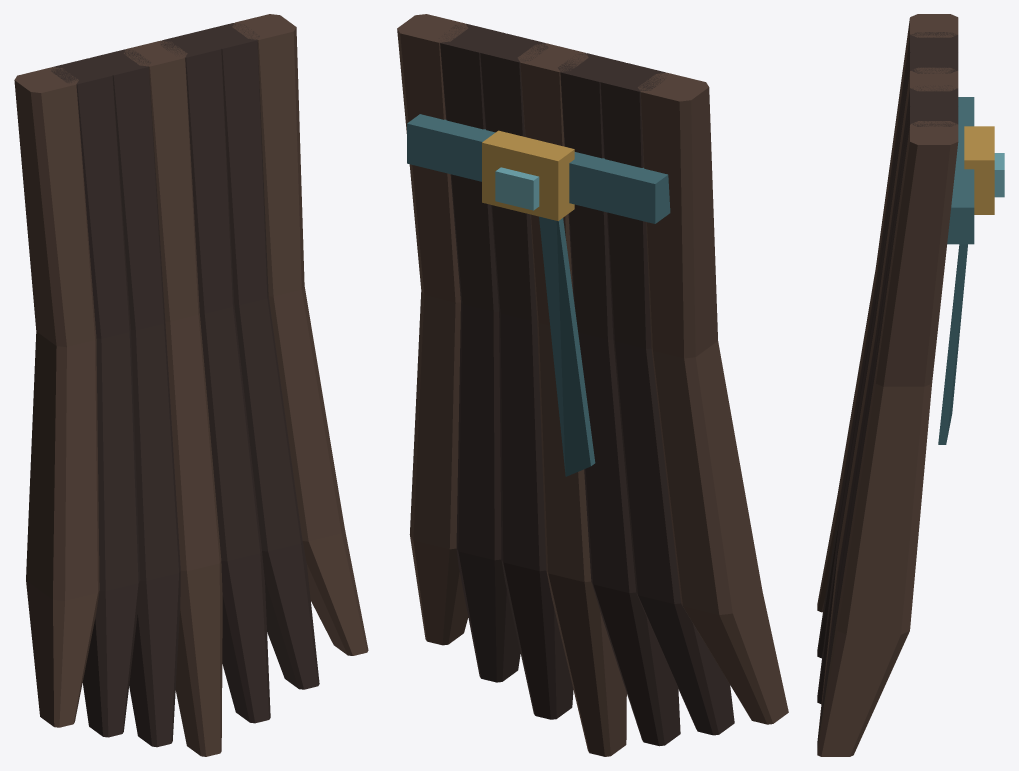
The picture shows the model from 3 angles, left to right: view 1: azimuth 30°, elevation 25°; view 2: azimuth 150°, elevation 25°; view 3: azimuth 270°, elevation 25°; orthographic projection. The views are drawn at different scales.
Parts seen in each view (by area): view 1: 现有长发延长片; view 2: 现有长发延长片; view 3: 现有长发延长片.
Part boxes in pixels (box(x1,y1,x2,y2)): 现有长发延长片: box(14, 14, 368, 756); 现有长发延长片: box(397, 14, 788, 756); 现有长发延长片: box(817, 14, 1004, 756).
Bounding box in the file's own units: 0.1821 × 0.365 × 0.093.
5 materials, 5 textured.
